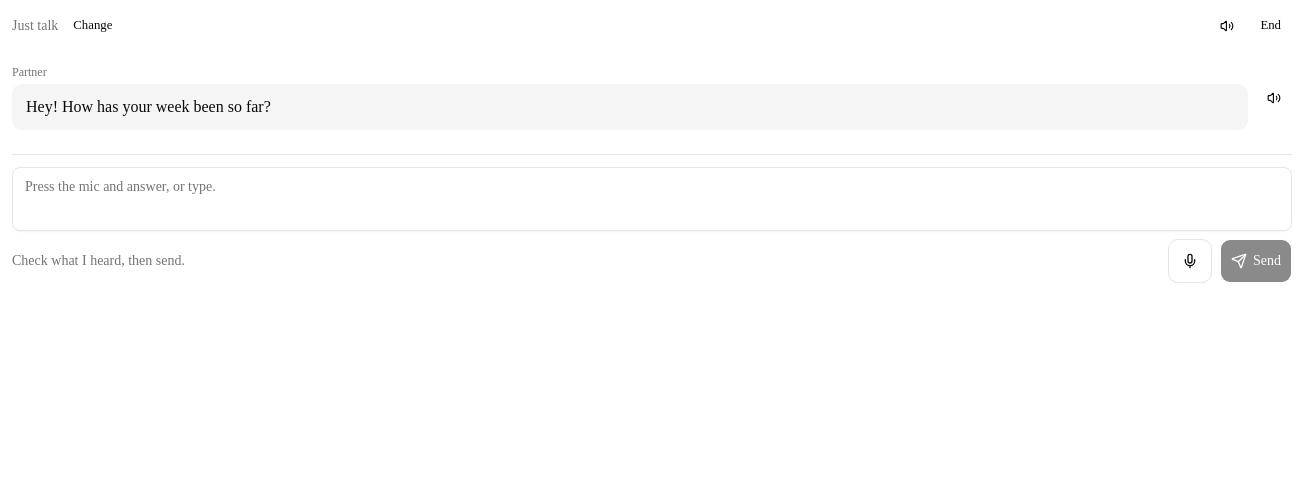
TalkPanel › sends the turn with the conversation so far, and shows the reviewed turn and the reply
Step 1. Click the button with test id "change" → (93, 26), box [62,12,123,40]
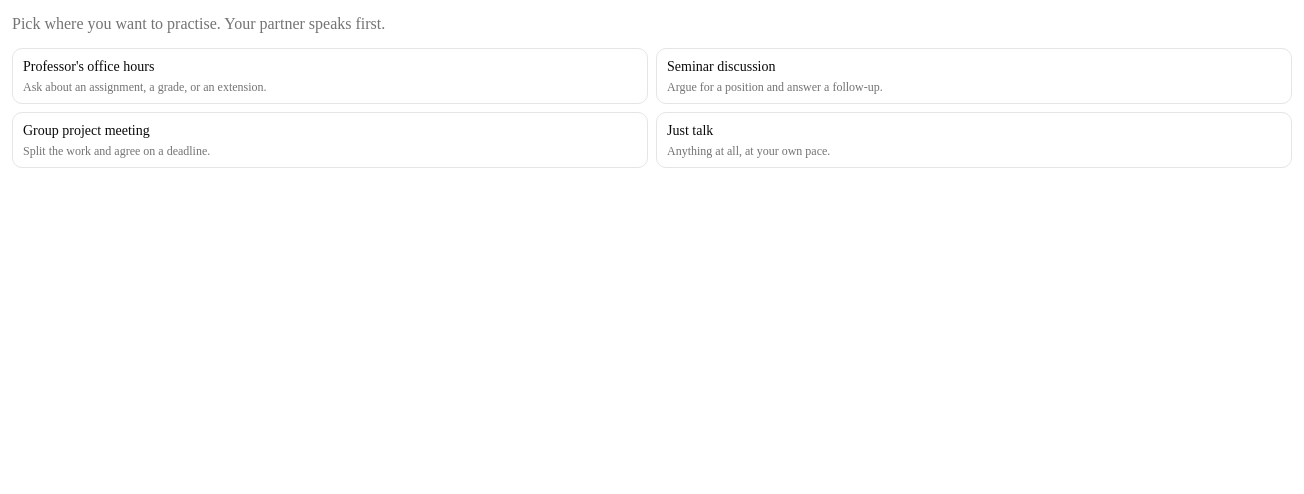
Step 2. Click the button with test id "scenario-office-hours" → (89, 66), box [12,48,648,104]
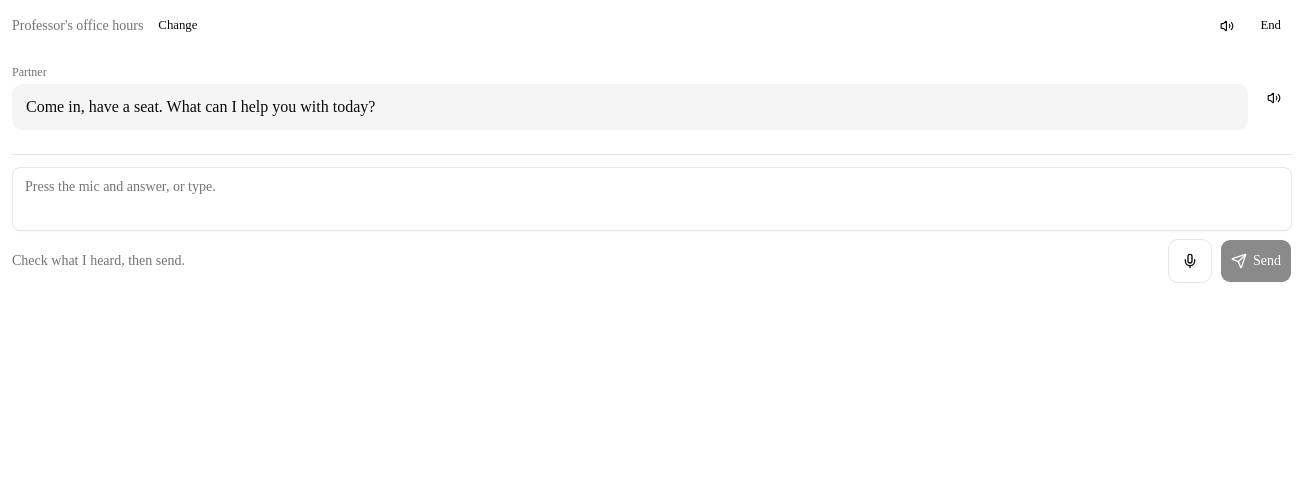
Step 3. Type "I want ask for more time, the essay is very big." into the text box with test id "answer" → (652, 199), box [12,167,1292,231]
Then press Enter
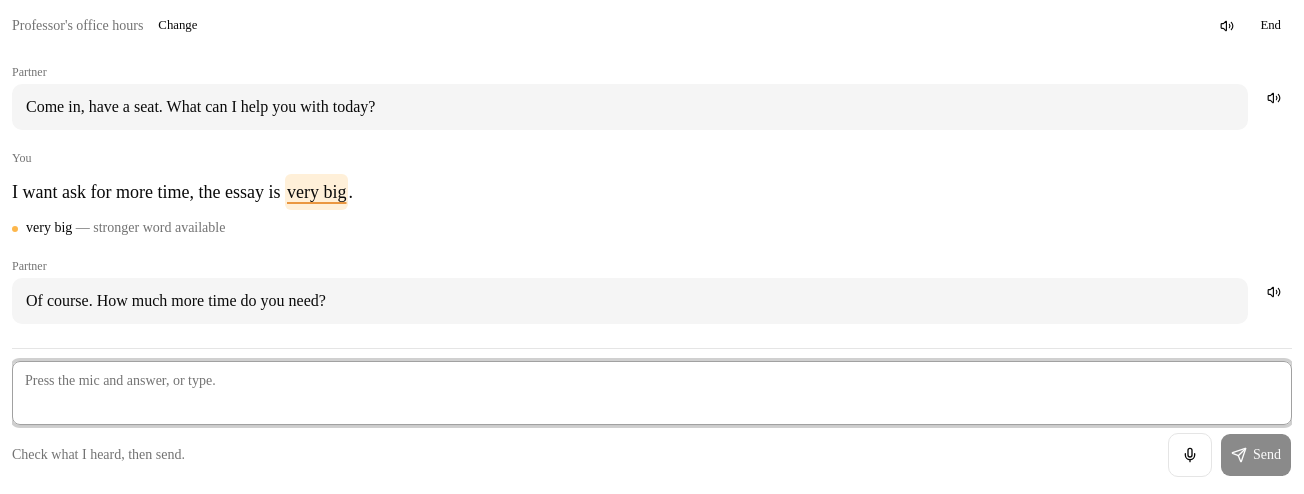
Result: the text box with test id "answer" is empty at [12,361,1292,425]
Result: the list item with test id "partner-turn" shows "How much more time do you need?" at [26,292,326,309]
Result: the button with test id "teaser" reads "very big — stronger word available" at [12,218,1292,238]
